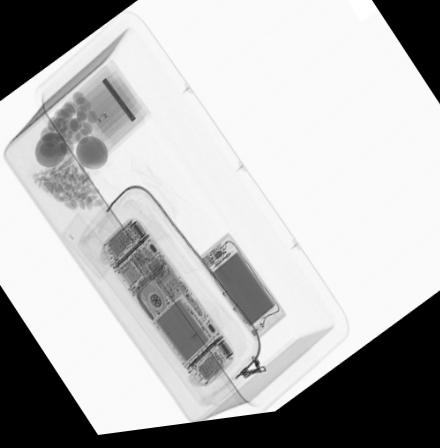Powerbank: (198, 239, 285, 348)
